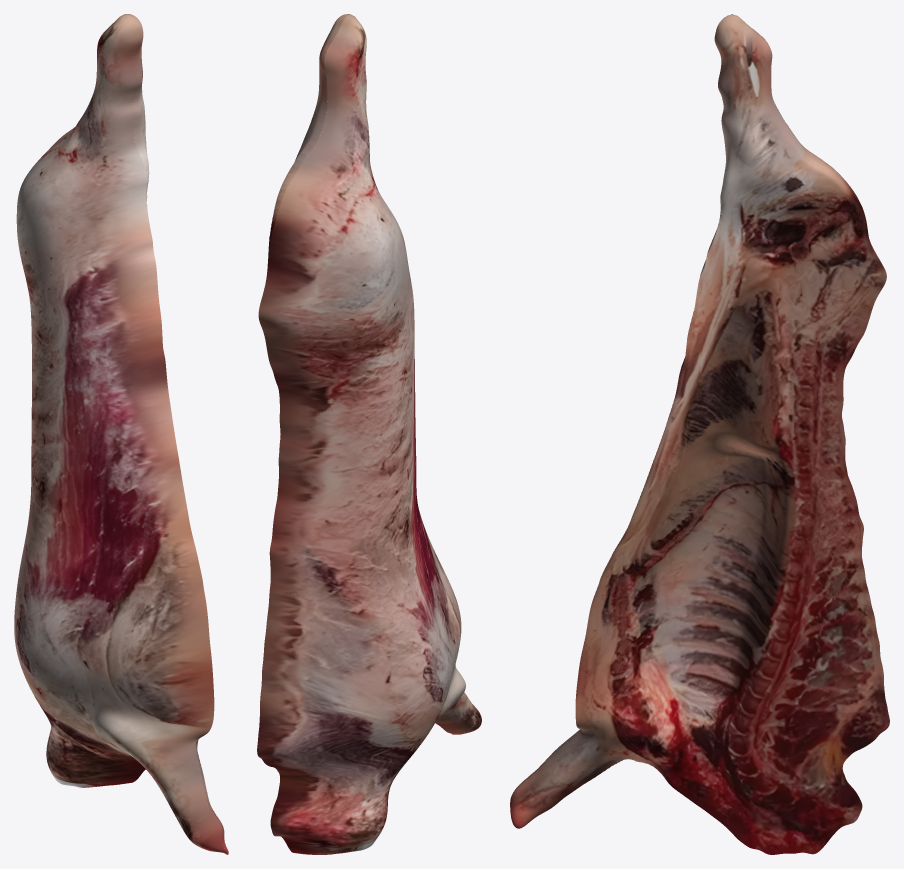
File: demi_carcasse_boeuf_v13.glb
3 views of the same model, side by side, from view 1: azimuth 30°, elevation 25°; view 2: azimuth 150°, elevation 25°; view 3: azimuth 270°, elevation 25° (orthographic). The views are drawn at different scales.
Parts seen in each view (by area): view 1: face_exterieure, face_de_fente; view 2: face_exterieure, face_de_fente; view 3: face_de_fente, face_exterieure.
Boxes of the visible parts, x1,y1,x2,y2 form: face_exterieure: (14,14,228,854); face_de_fente: (126,14,228,853); face_exterieure: (257,14,481,854); face_de_fente: (268,14,452,734); face_de_fente: (510,15,889,854); face_exterieure: (513,14,882,792).
Bounding box in the file's own units: 0.4163 × 2.5 × 1.03.
2 materials, 2 textured.
